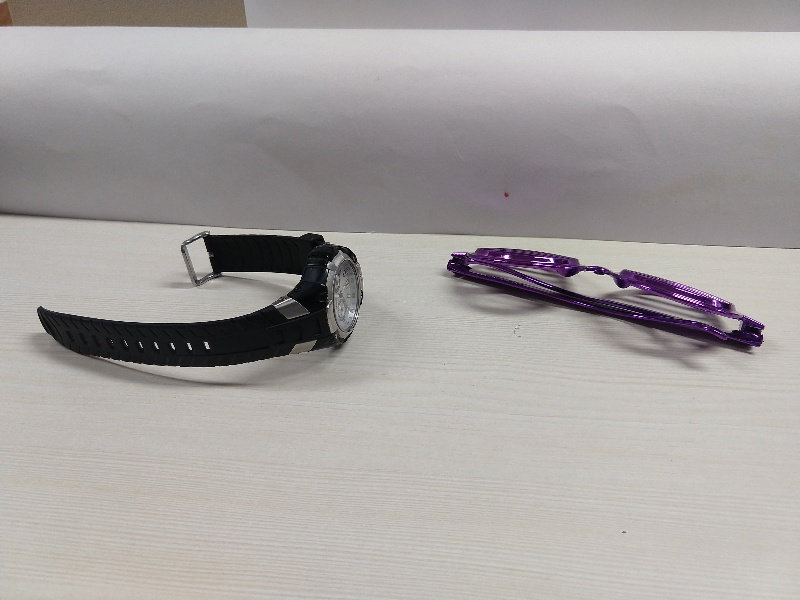shades: (442, 243, 769, 364)
watch: (30, 225, 388, 369)
